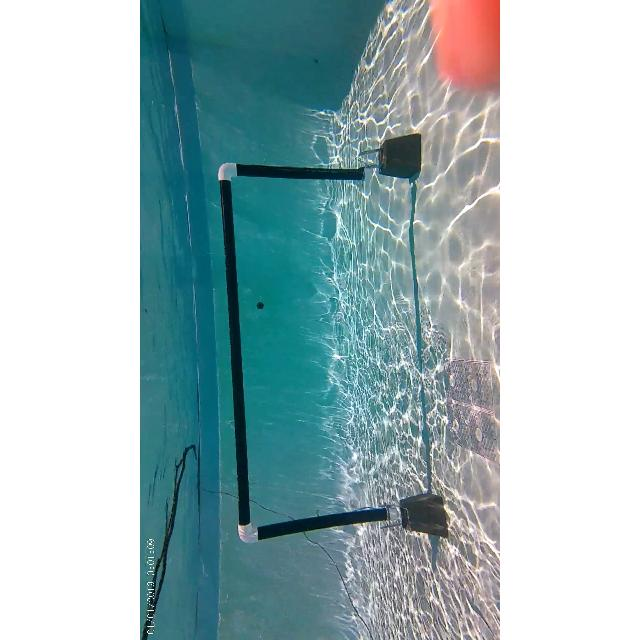prequal gate: (220, 162, 398, 536)
prequal gate leg l: (226, 498, 410, 548)
prequal gate leg r: (216, 151, 397, 195)
